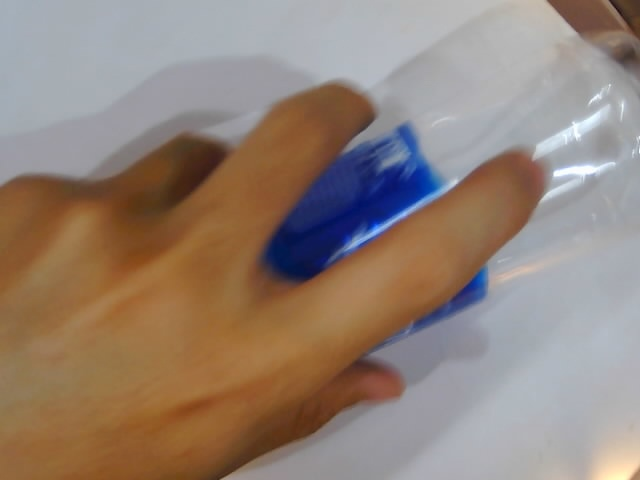plastic: (0, 3, 639, 480)
